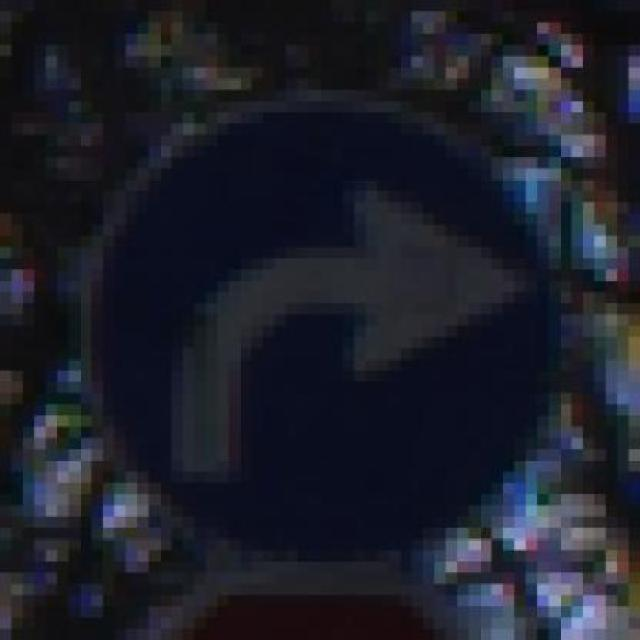Turn right ahead: (68, 56, 583, 562)
